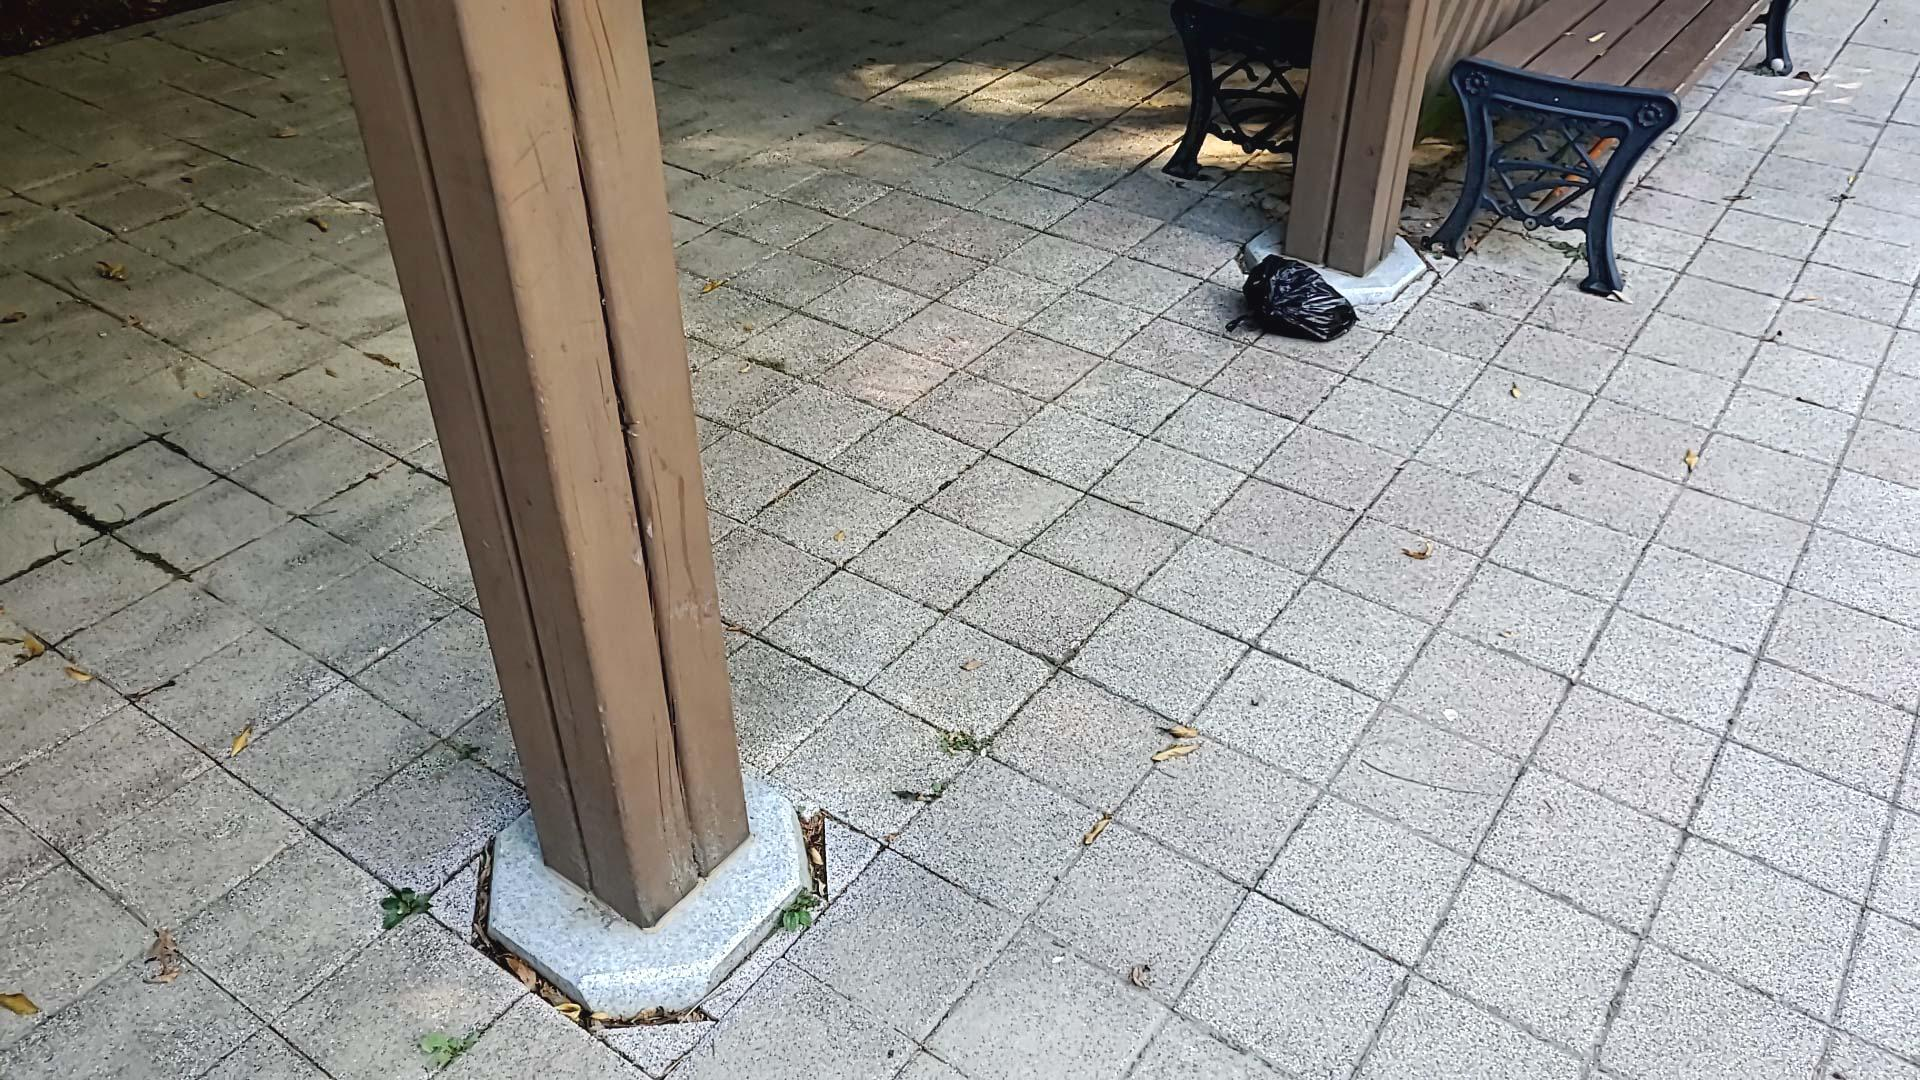black_bag: (1220, 247, 1360, 349)
